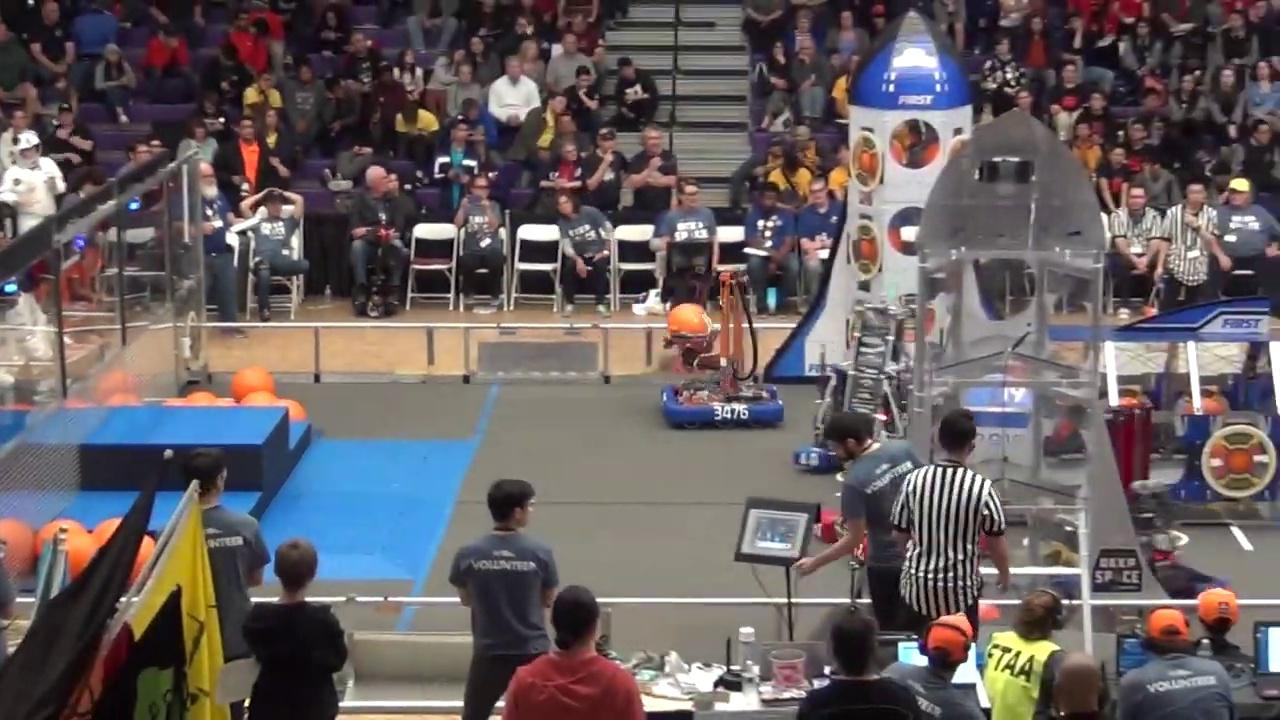robot: (655, 264, 783, 430)
